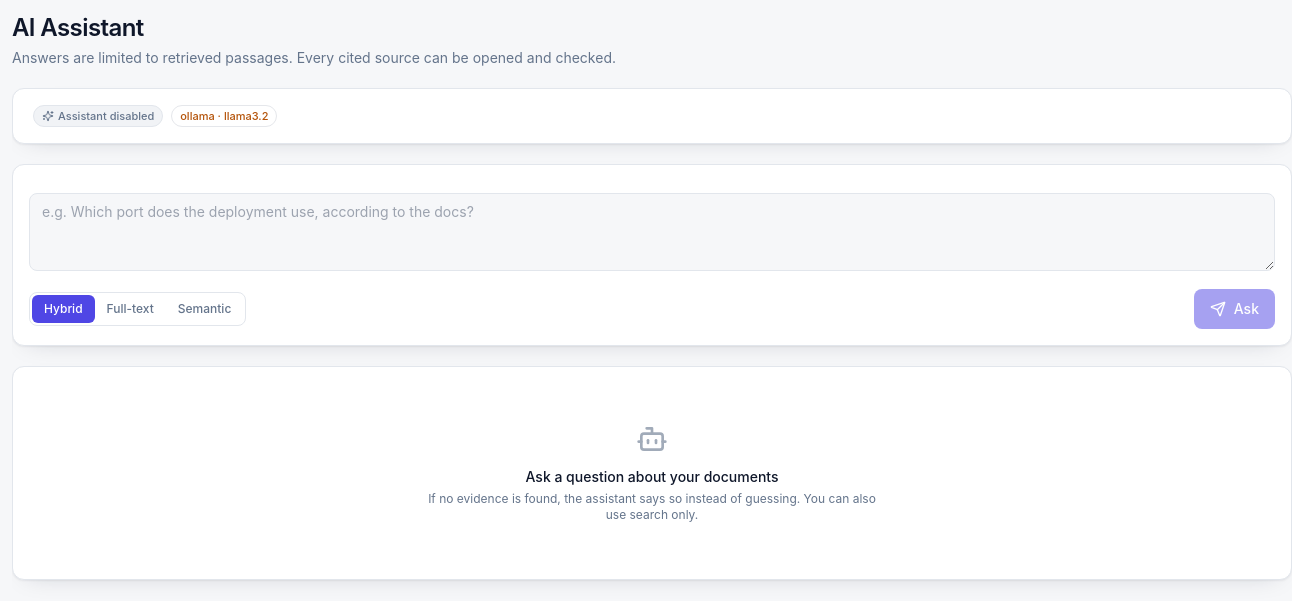
Test: Assistant page › submits the question and renders the cited answer
Type "Which port does the deployment use?" into the text box named "Question". click: (652, 232)
box: [29,193,1275,271]
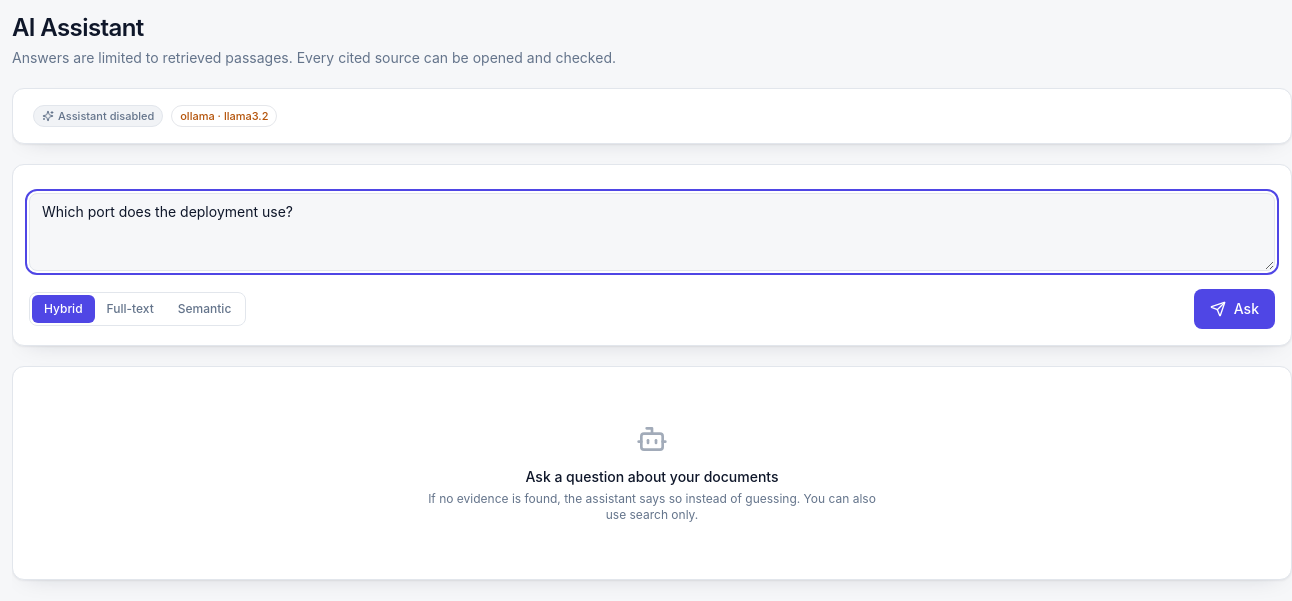
Click the button "Ask". click: click(1234, 309)
box: [1194,289,1275,329]
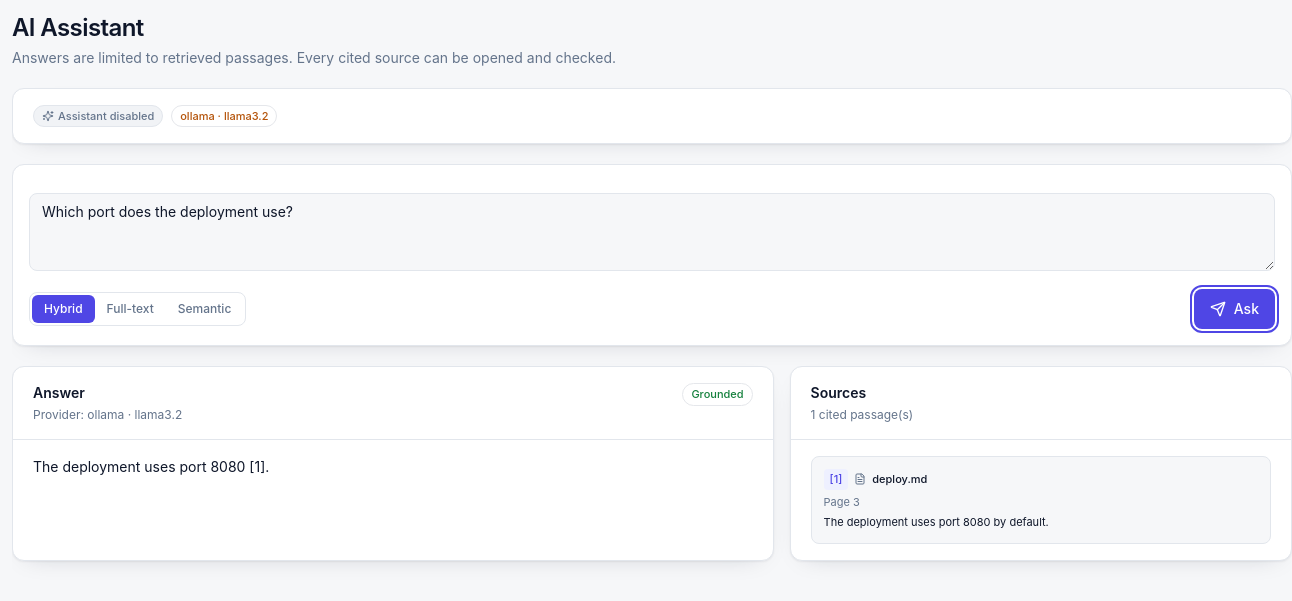
Now the text "The deployment uses port 8080 [1]." is shown, box [33,458,269,475]
Now the text "[1]" is shown, box [824,469,848,490]
Now the text "deploy.md" is shown, box [872,471,927,488]
